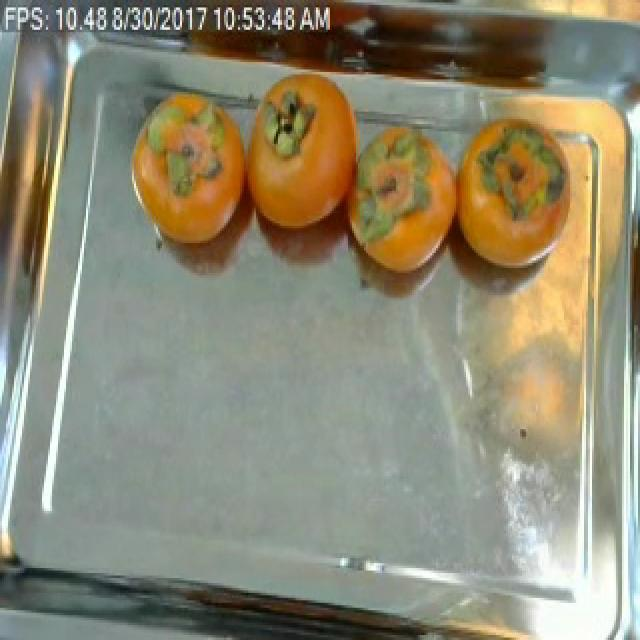Fruit: (116, 77, 260, 268)
